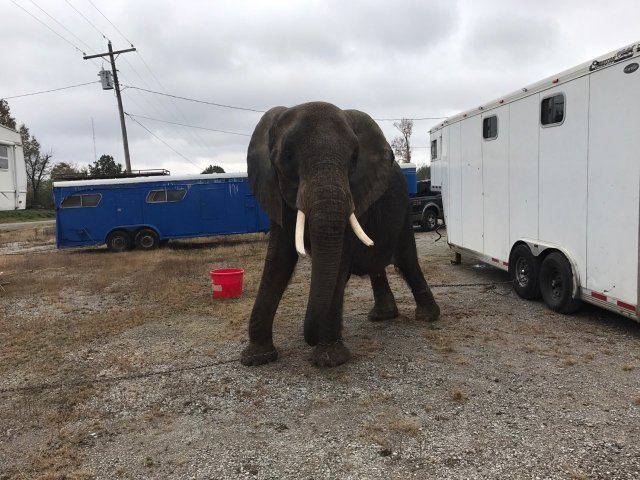elephant: (237, 98, 455, 371)
